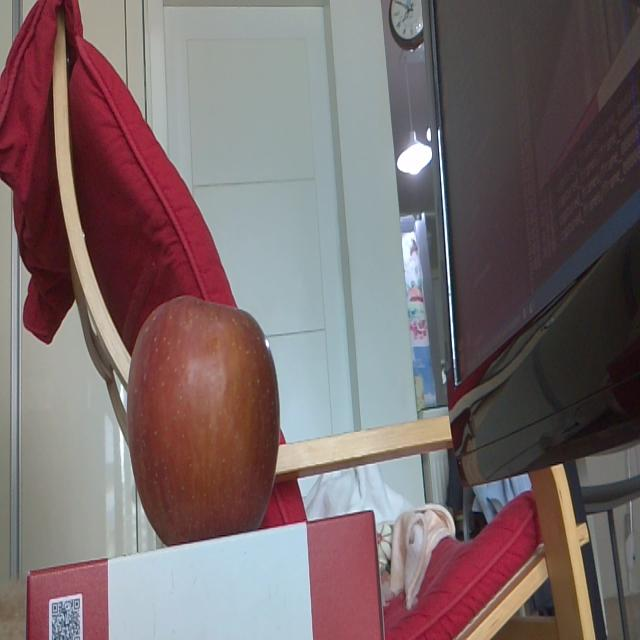apple: (127, 298, 280, 530)
